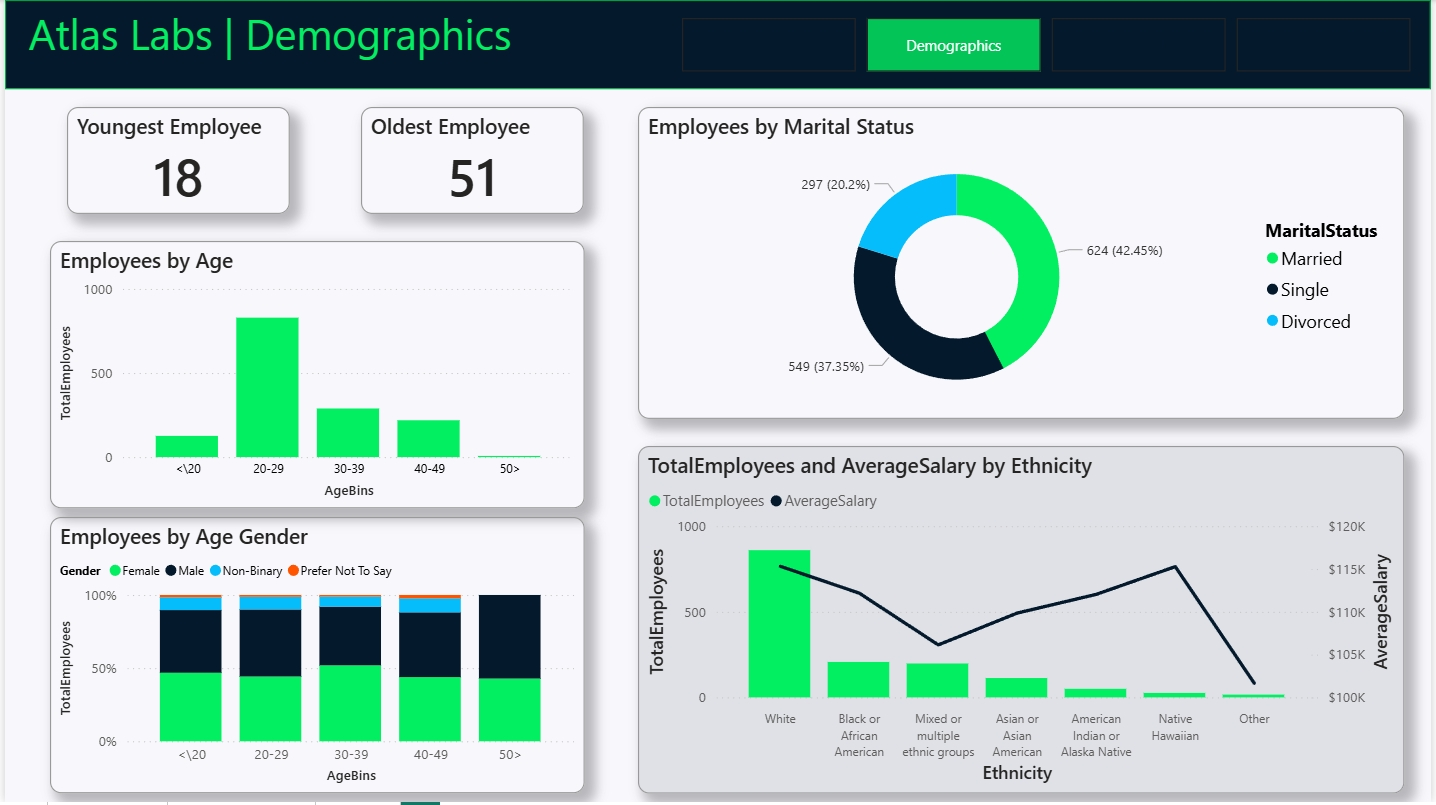

The dashboard page shown, as its layout file describes it:
{"tool":"powerbi","page":{"name":"Demographics","canvas":[1280,720],"ordinal":1},"visuals":[{"type":"card","title":"Oldest Employee","fields":{"Values":["Max(DimEmployee.Age)"]},"box":[320,96,200,96],"z":0},{"type":"card","title":"Youngest Employee","fields":{"Values":["Min(DimEmployee.Age)"]},"box":[56,96,200,96],"z":1000},{"type":"columnChart","title":"Employees by Age","fields":{"Y":["Table_Measures.TotalEmployees"],"Category":["DimEmployee.AgeBins"]},"box":[40,216,480,240],"z":2000},{"type":"donutChart","title":"Employees by Marital Status","fields":{"Category":["DimEmployee.MaritalStatus"],"Y":["Table_Measures.TotalEmployees"]},"box":[568,96,688,280],"z":3000},{"type":"lineStackedColumnComboChart","fields":{"Category":["DimEmployee.Ethnicity"],"Y":["Table_Measures.TotalEmployees"],"Y2":["Table_Measures.AverageSalary"]},"box":[568,400,688,312],"z":4000},{"type":"hundredPercentStackedColumnChart","title":"Employees by Age  Gender","fields":{"Y":["Table_Measures.TotalEmployees"],"Category":["DimEmployee.AgeBins"],"Series":["DimEmployee.Gender"]},"box":[40,464,480,248],"z":5000},{"type":"shape","box":[0,0,1280,80],"z":6000},{"type":"textbox","box":[16,0,800,80],"z":7000},{"type":"pageNavigator","box":[608,16,656,48],"z":8000}]}

Visuals, with their boxes in screenshot pixels (x1, y1, x2, y2), scaled from the page's 1280x720 canvas onto the 1436x805 screenshot:
"Oldest Employee" card: (left=359, top=107, right=583, bottom=215)
"Youngest Employee" card: (left=63, top=107, right=287, bottom=215)
"Employees by Age" columnChart: (left=45, top=242, right=583, bottom=510)
"Employees by Marital Status" donutChart: (left=637, top=107, right=1409, bottom=420)
lineStackedColumnComboChart - DimEmployee.Ethnicity x Table_Measures.TotalEmployees: (left=637, top=447, right=1409, bottom=796)
"Employees by Age  Gender" hundredPercentStackedColumnChart: (left=45, top=519, right=583, bottom=796)
shape: (left=0, top=0, right=1435, bottom=89)
textbox: (left=18, top=0, right=915, bottom=89)
pageNavigator: (left=682, top=18, right=1418, bottom=72)
